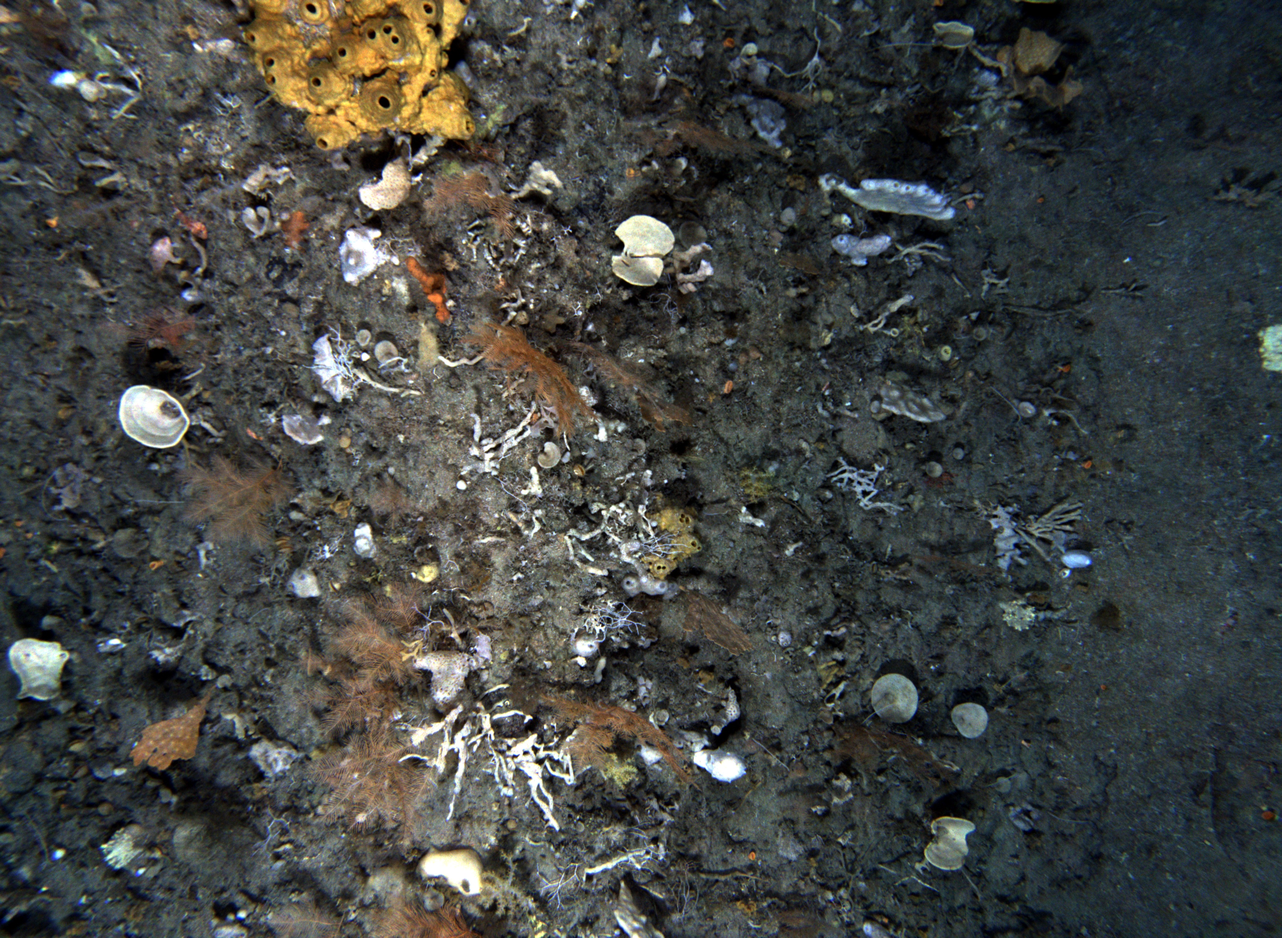Brachionichthyidae: (149, 235, 182, 285)
